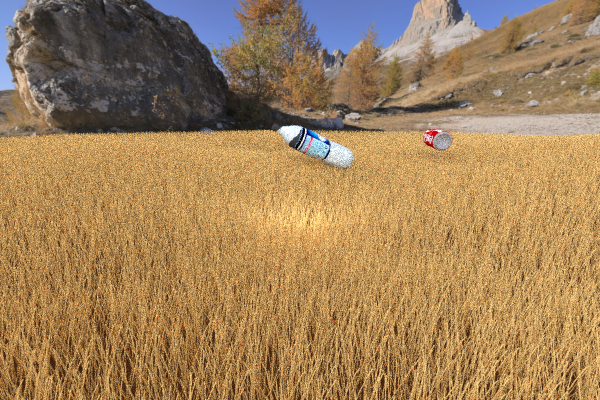bottle: (271, 123, 354, 169)
can: (422, 128, 452, 150)
